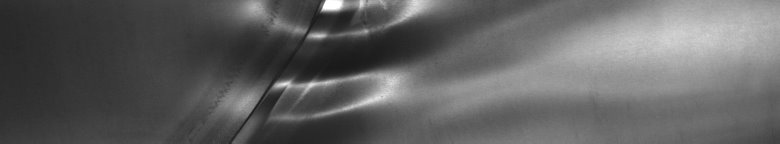ke: (235, 4, 416, 136)
